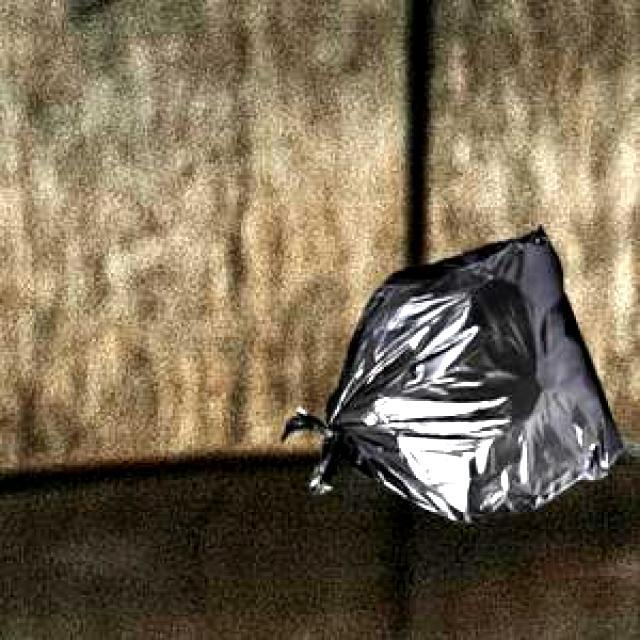Garbage_Bag: (278, 222, 618, 520)
